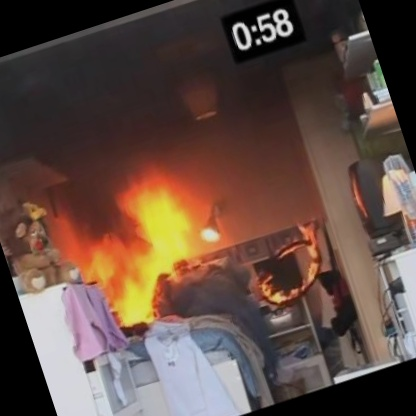fire: (65, 172, 201, 299)
